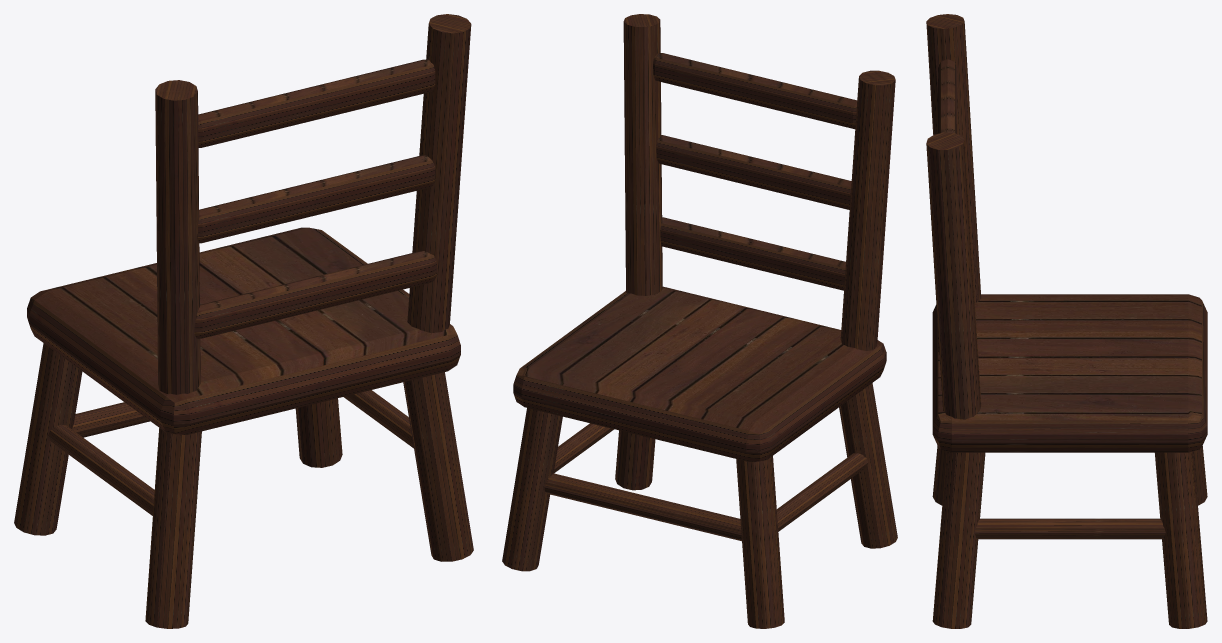
File: cabin-chair.glb
3 views of the same model, side by side, from view 1: azimuth 30°, elevation 25°; view 2: azimuth 150°, elevation 25°; view 3: azimuth 270°, elevation 25° (orthographic). The views are drawn at different scales.
Parts seen in each view (by area): view 1: ChairSeat, ChairBackPost_-1, ChairBackPost_1, ChairLeg_-1_1, ChairBackSlat_0, ChairBackSlat_2, ChairBackSlat_1, ChairLeg_1_1, ChairLeg_-1_-1, ChairSideStretcherL, ChairLeg_1_-1, ChairFrontStretcher (+1 smaller); view 2: ChairSeat, ChairBackPost_-1, ChairBackPost_1, ChairLeg_-1_-1, ChairBackSlat_2, ChairLeg_1_-1, ChairBackSlat_1, ChairBackSlat_0, ChairLeg_-1_1, ChairFrontStretcher, ChairSideStretcherL, ChairLeg_1_1 (+1 smaller); view 3: ChairSeat, ChairBackPost_1, ChairLeg_1_-1, ChairLeg_1_1, ChairBackPost_-1, ChairSideStretcherR, ChairBackSlat_2, ChairLeg_-1_-1, ChairLeg_-1_1.
Part boxes in pixels (left/top/right/bottom): ChairSeat: left=27, top=227, right=460, bottom=435; ChairBackPost_-1: left=155, top=80, right=200, bottom=394; ChairBackPost_1: left=407, top=14, right=471, bottom=333; ChairLeg_-1_1: left=145, top=428, right=201, bottom=628; ChairBackSlat_0: left=194, top=251, right=437, bottom=338; ChairBackSlat_2: left=198, top=59, right=435, bottom=147; ChairBackSlat_1: left=197, top=155, right=435, bottom=243; ChairLeg_1_1: left=403, top=372, right=473, bottom=561; ChairLeg_-1_-1: left=14, top=343, right=82, bottom=535; ChairSideStretcherL: left=48, top=424, right=154, bottom=515; ChairLeg_1_-1: left=295, top=398, right=342, bottom=467; ChairFrontStretcher: left=72, top=402, right=149, bottom=437; ChairSeat: left=513, top=286, right=886, bottom=462; ChairBackPost_-1: left=840, top=70, right=895, bottom=350; ChairBackPost_1: left=623, top=14, right=662, bottom=295; ChairLeg_-1_-1: left=736, top=456, right=784, bottom=628; ChairBackSlat_2: left=653, top=53, right=857, bottom=129; ChairLeg_1_-1: left=502, top=408, right=562, bottom=571; ChairBackSlat_1: left=656, top=135, right=851, bottom=209; ChairBackSlat_0: left=660, top=217, right=845, bottom=290; ChairLeg_-1_1: left=839, top=383, right=897, bottom=548; ChairFrontStretcher: left=544, top=473, right=741, bottom=541; ChairSideStretcherL: left=777, top=453, right=868, bottom=531; ChairLeg_1_1: left=615, top=430, right=655, bottom=490; ChairSeat: left=932, top=294, right=1207, bottom=452; ChairBackPost_1: left=926, top=132, right=981, bottom=419; ChairLeg_1_-1: left=1155, top=451, right=1207, bottom=628; ChairLeg_1_1: left=932, top=451, right=985, bottom=628; ChairBackPost_-1: left=926, top=14, right=981, bottom=302; ChairSideStretcherR: left=974, top=518, right=1165, bottom=539; ChairBackSlat_2: left=938, top=59, right=957, bottom=133; ChairLeg_-1_-1: left=1193, top=446, right=1207, bottom=505; ChairLeg_-1_1: left=932, top=445, right=946, bottom=505.
Size of the model in its own units: 0.7792 by 1.24 by 0.6546.
1 material, 1 textured.
